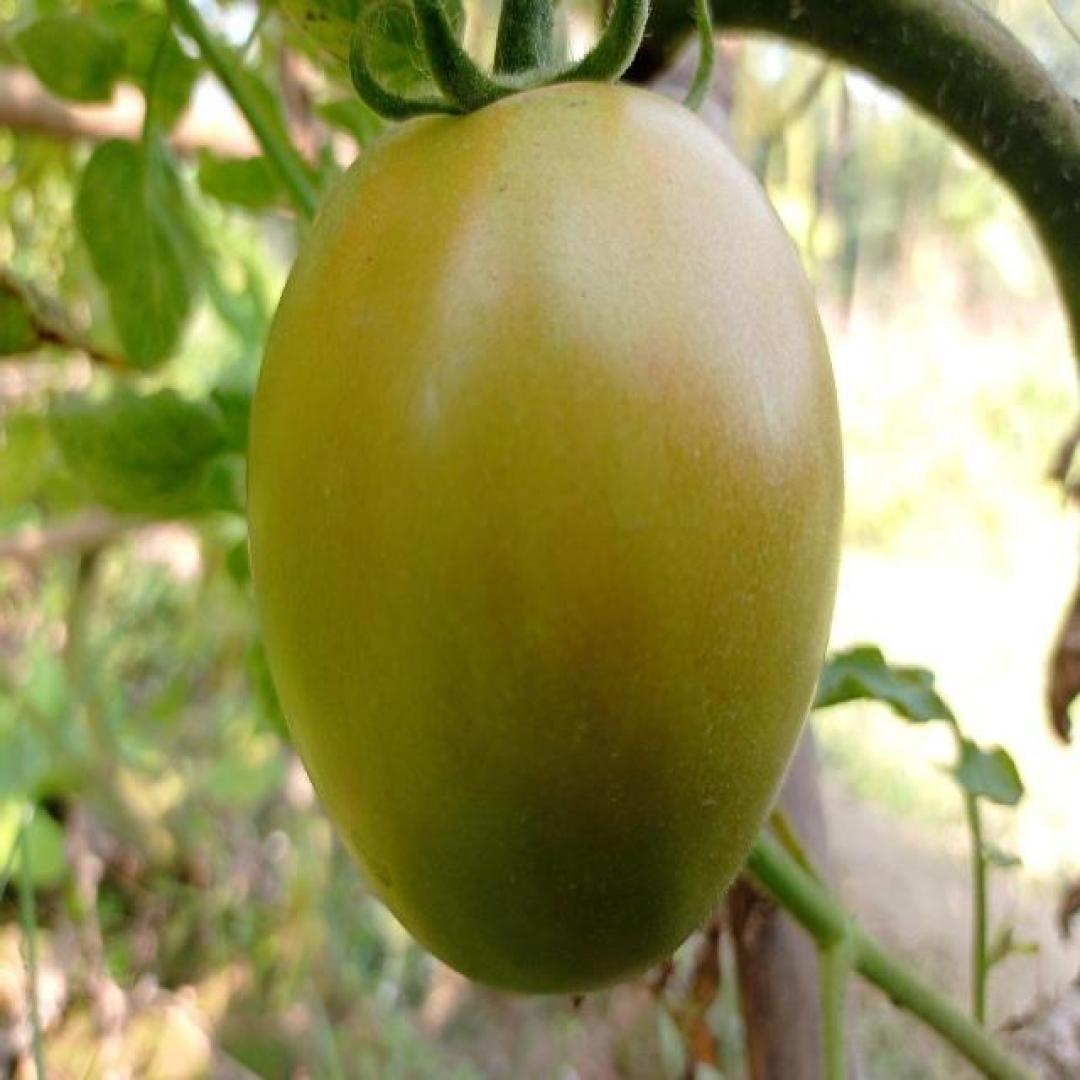setengah_matang: (243, 76, 849, 997)
